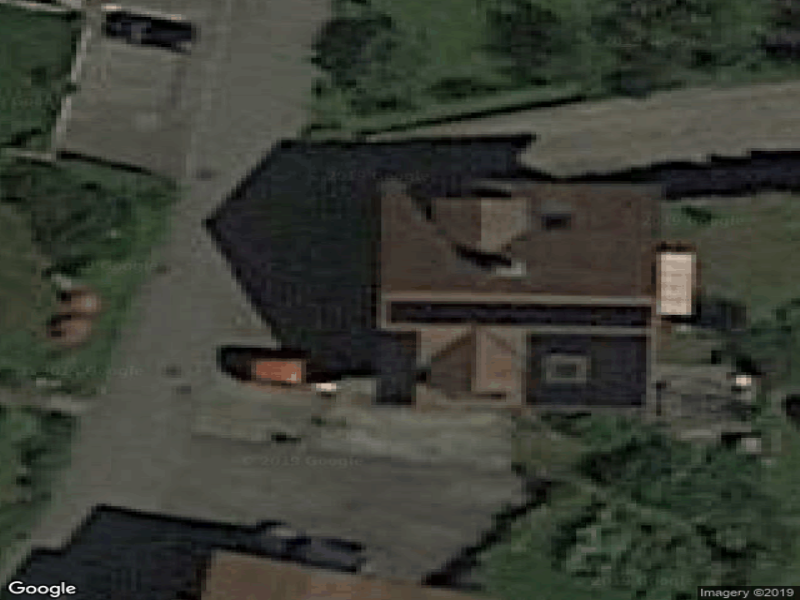pv: (526, 330, 647, 409), (390, 298, 651, 327)
